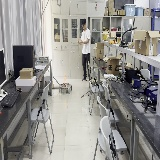fire: (61, 72, 67, 86)
